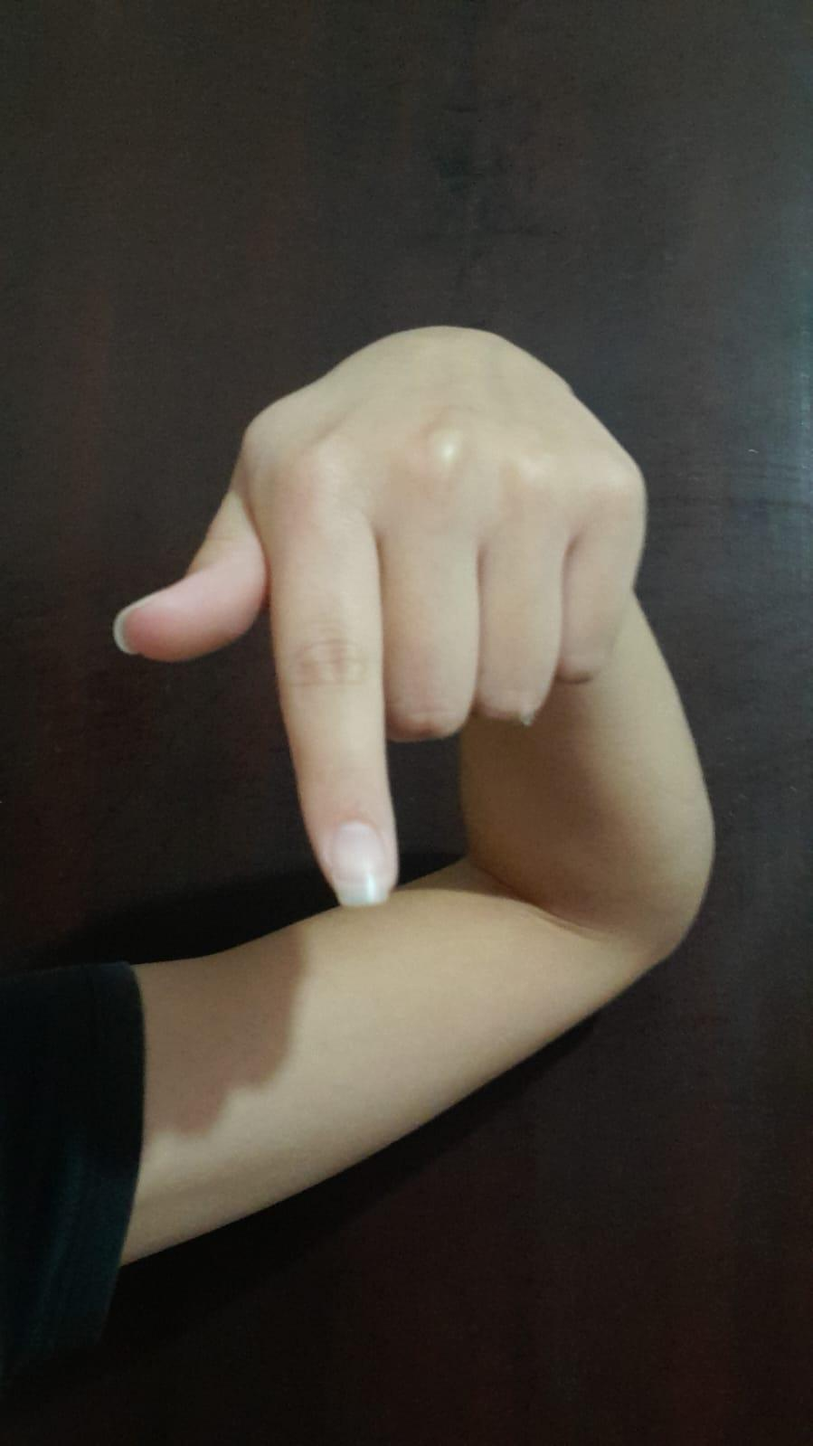Q: (90, 312, 669, 918)
